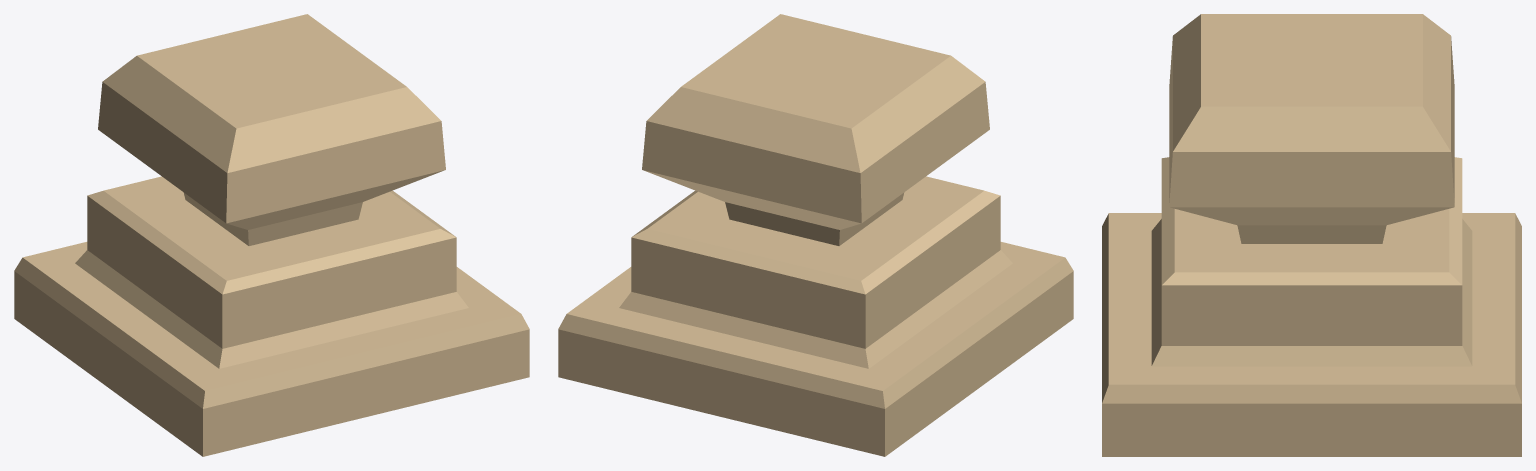
File: graveSmall.fbx
3 renders of one model, left to right at view 1: azimuth 30°, elevation 25°; view 2: azimuth 150°, elevation 25°; view 3: azimuth 270°, elevation 25°, orthographic. The views are drawn at different scales.
Visible parts, largest first — view 1: Cube.038; view 2: Cube.038; view 3: Cube.038.
Boxes of the visible parts, <box> form: Cube.038: <box>14,14,529,456</box>; Cube.038: <box>558,14,1073,456</box>; Cube.038: <box>1102,14,1521,456</box>.
Bounding box in the file's own units: 200 × 200 × 162.
